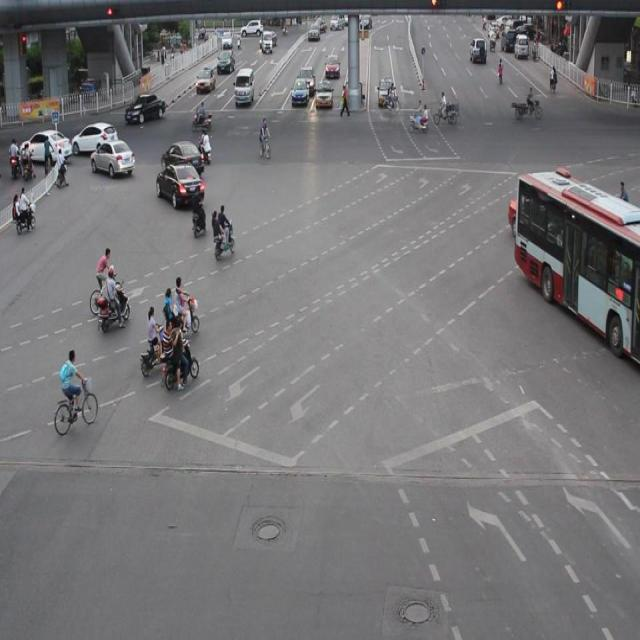BigCar: (512, 154, 640, 359)
car: (150, 147, 197, 222), (84, 135, 153, 177), (65, 116, 122, 152), (125, 85, 167, 133), (17, 120, 71, 157), (225, 64, 272, 105), (164, 129, 204, 167), (286, 63, 311, 104), (295, 49, 317, 92), (311, 86, 338, 120), (326, 47, 349, 70)
